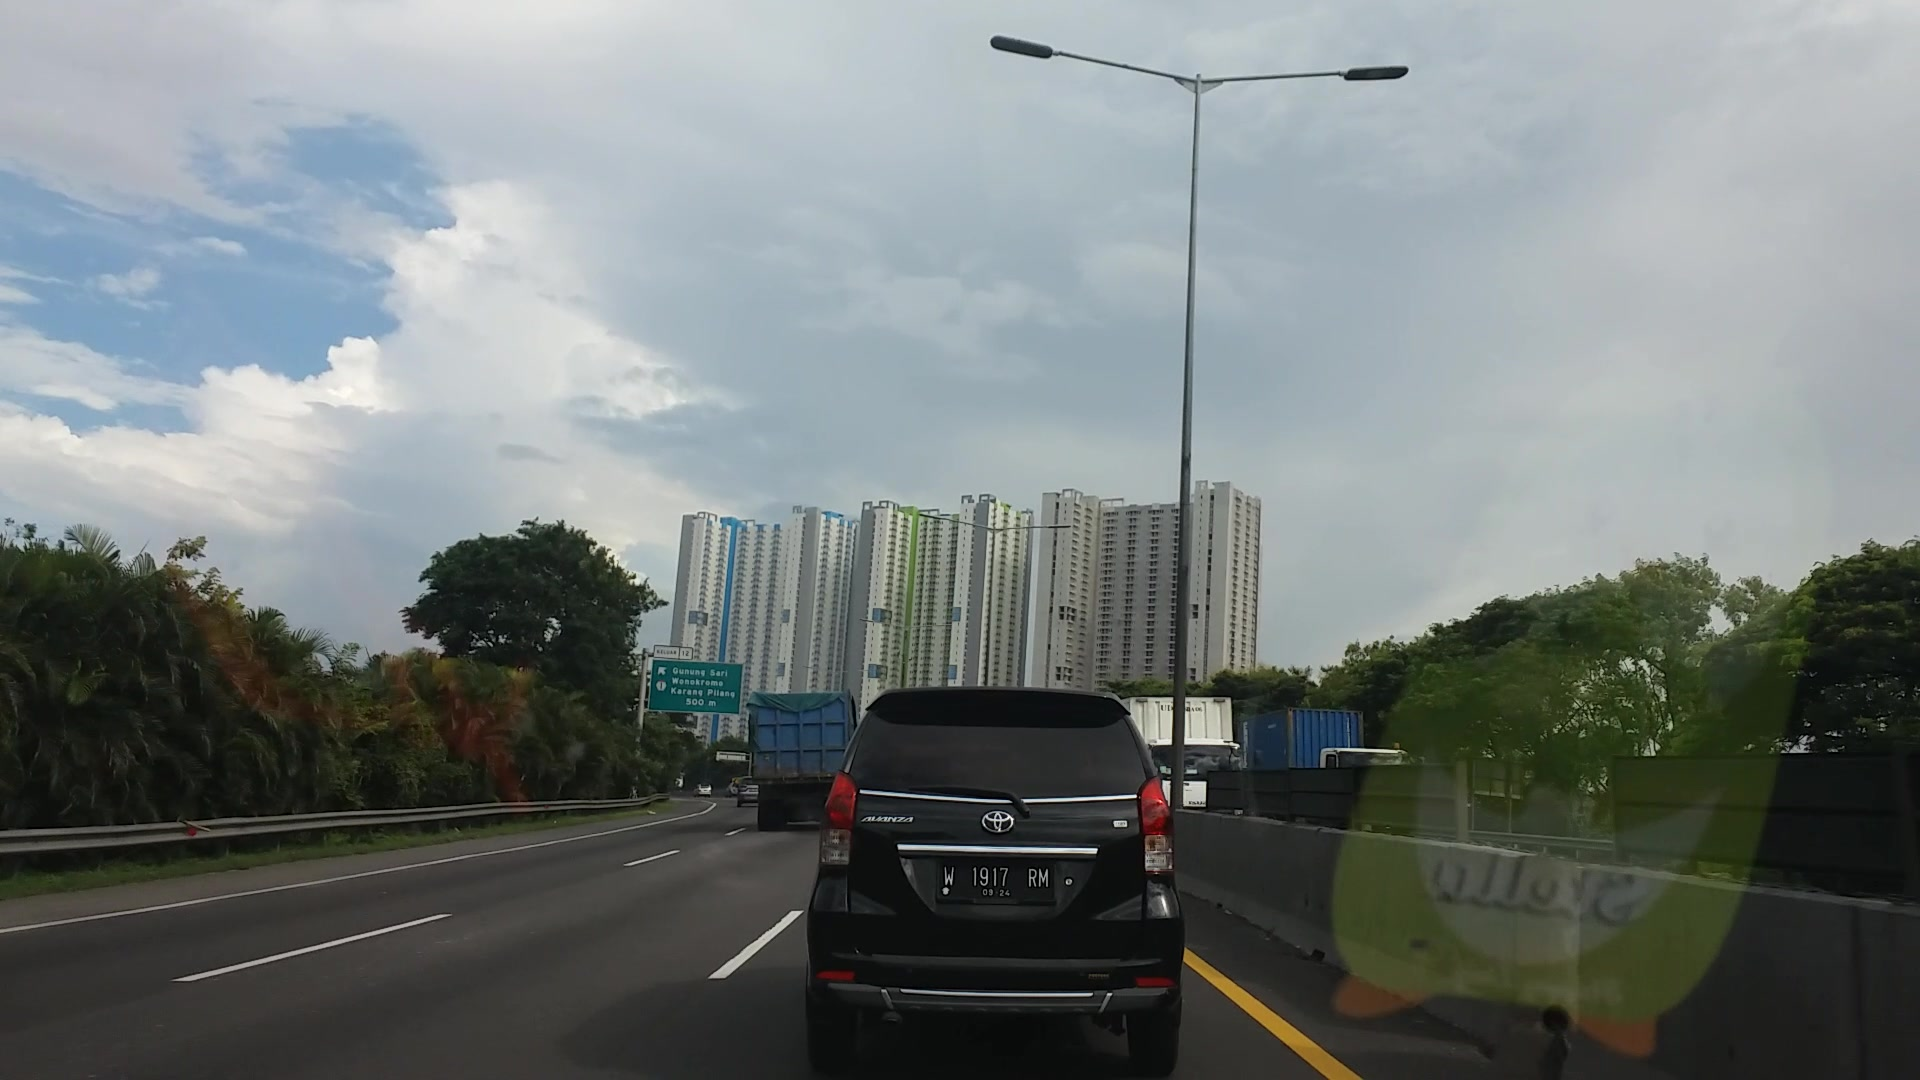plate_positive: (939, 858, 1052, 899)
